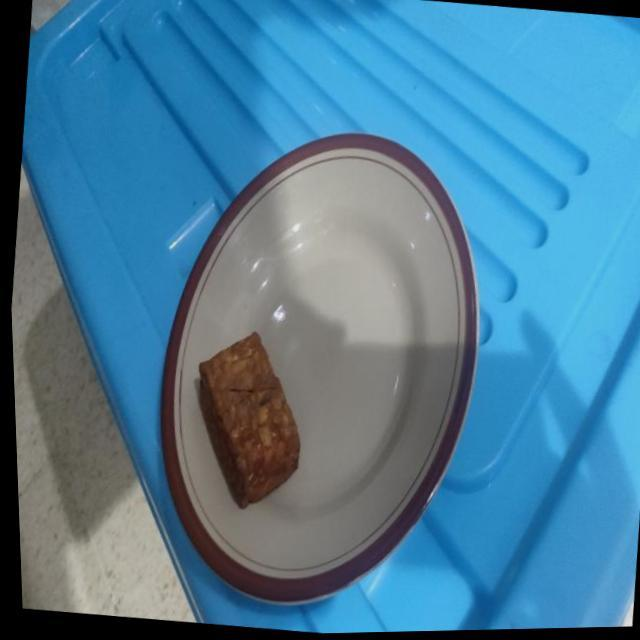tempe_goreng: (198, 332, 300, 507)
